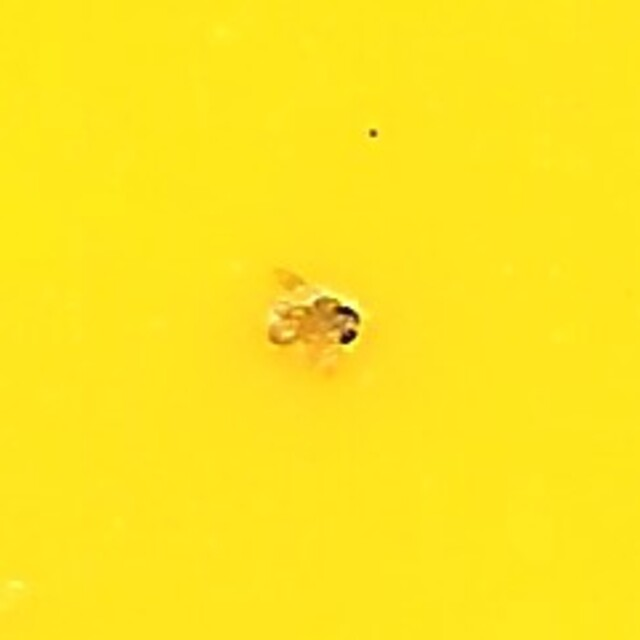Nematocera: (266, 269, 374, 371)
